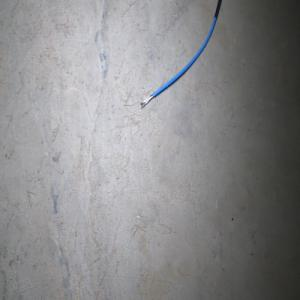Wire: (140, 0, 222, 108)
